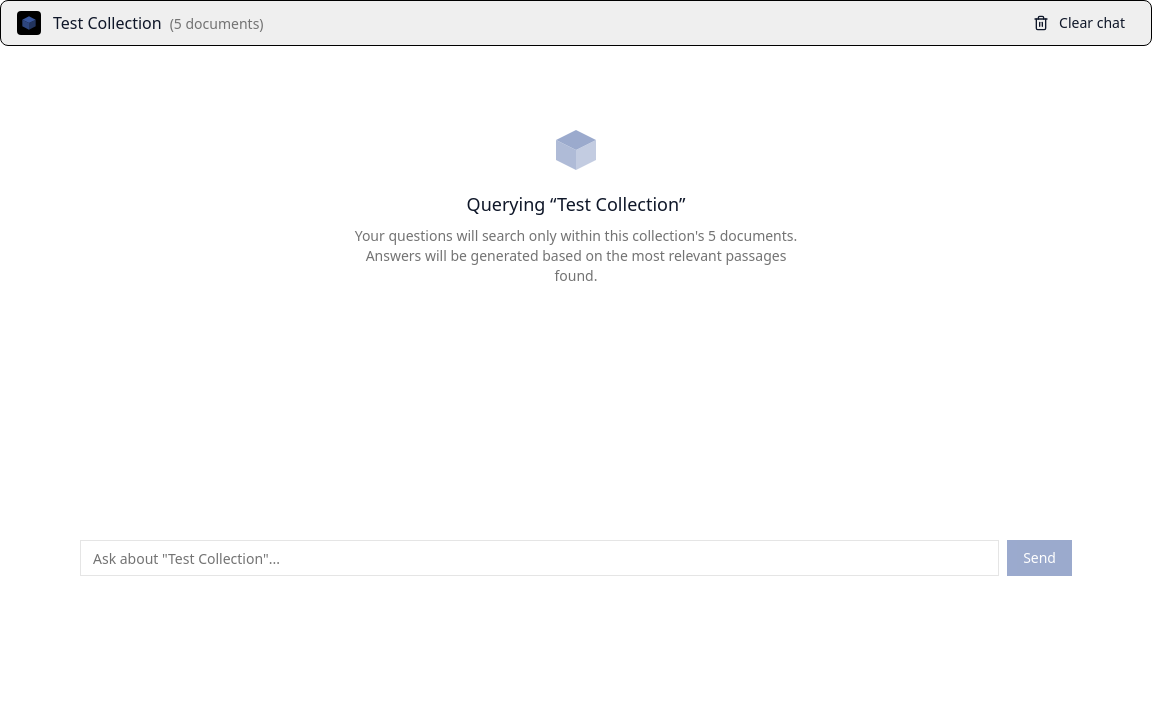
Scenario: ChatPage Streaming › should stream response tokens incrementally
The width and height of the screenshot is (1152, 720).
Note: Type and submit query
Step 1. Type "Hello" into the field named "Ask a question" → x=540, y=558, box [80, 540, 999, 576]
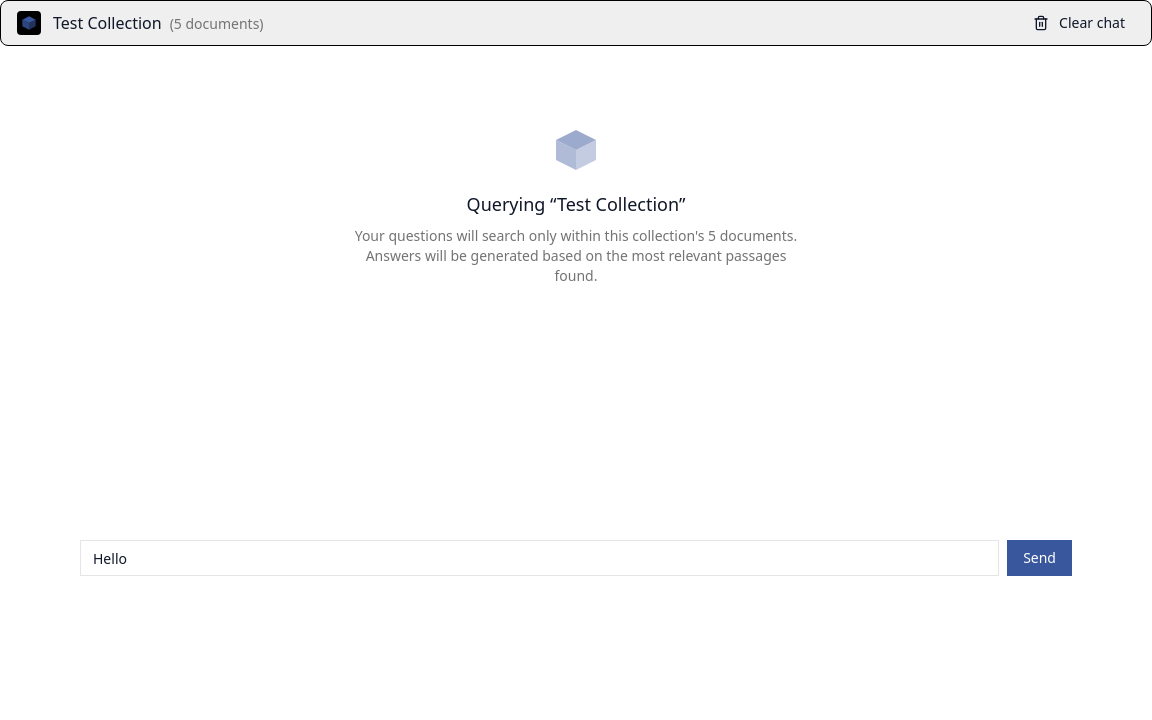
Step 2. Submit the form from the button "Send", box [1007, 540, 1072, 576]
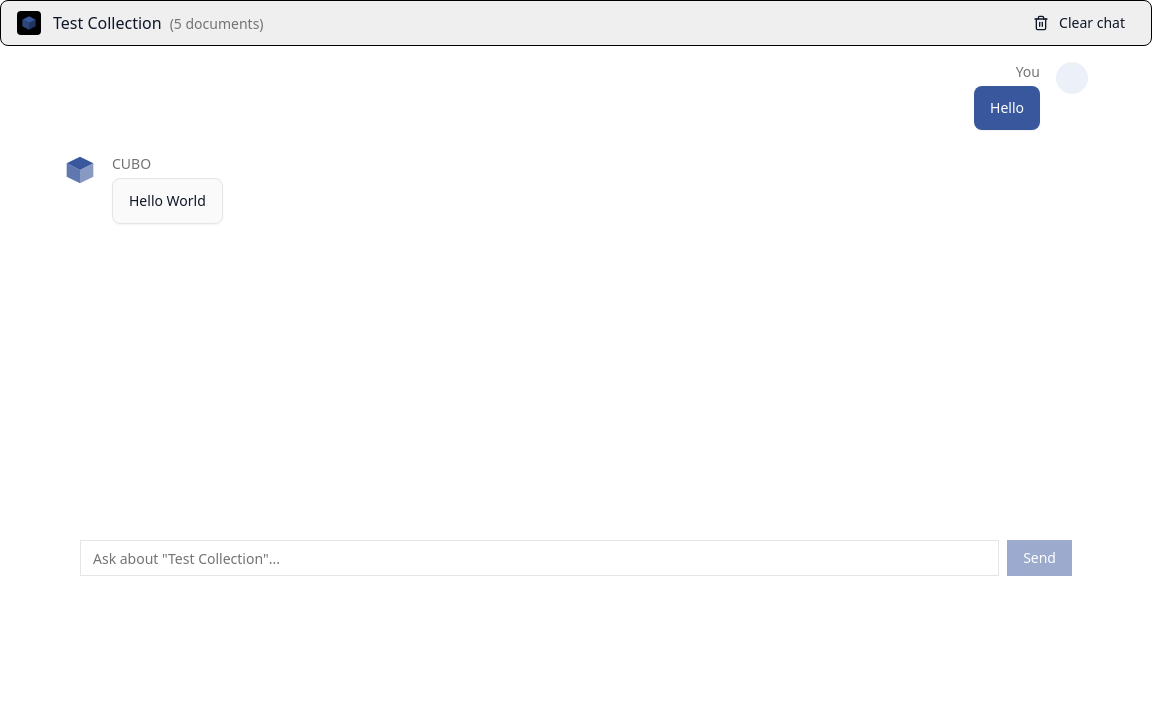
Result: the text "Hello" is shown at [974, 86, 1040, 130]
Result: the text "Hello World" is shown at [112, 178, 223, 224]
